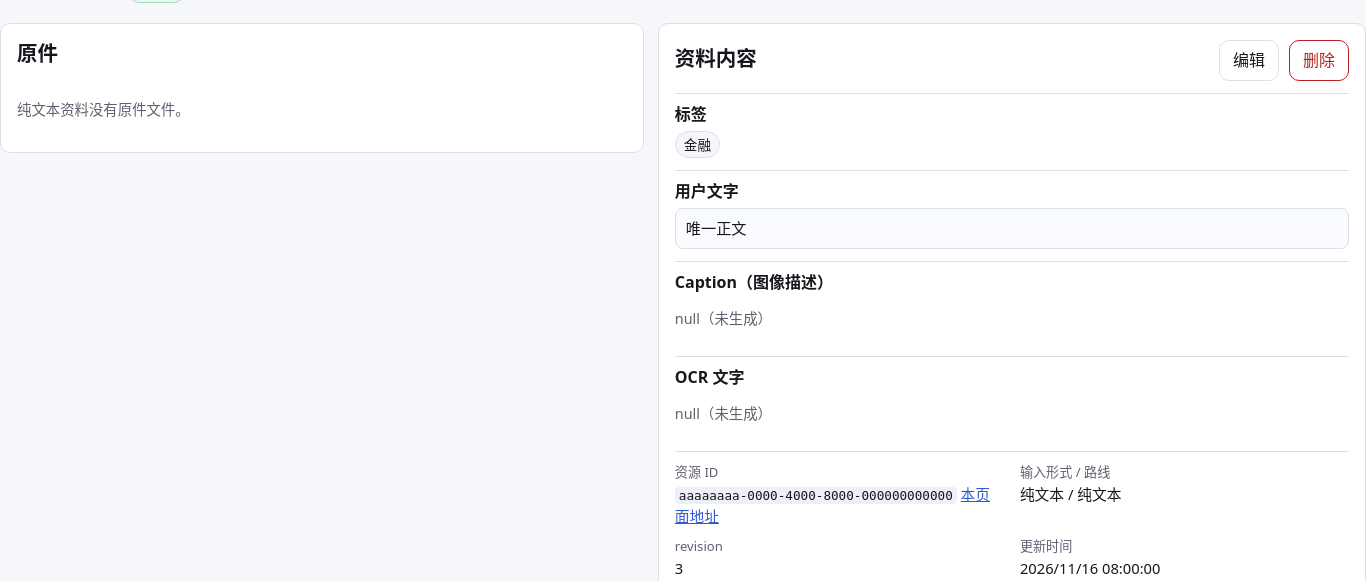
Test: resource detail page › refuses to blank out the only text of a plain-text resource
Expected: the text "资源 ID" is shown, [675,463,718,481]
Click the button "编辑": {"x": 1249, "y": 61} [1219,40,1279,81]
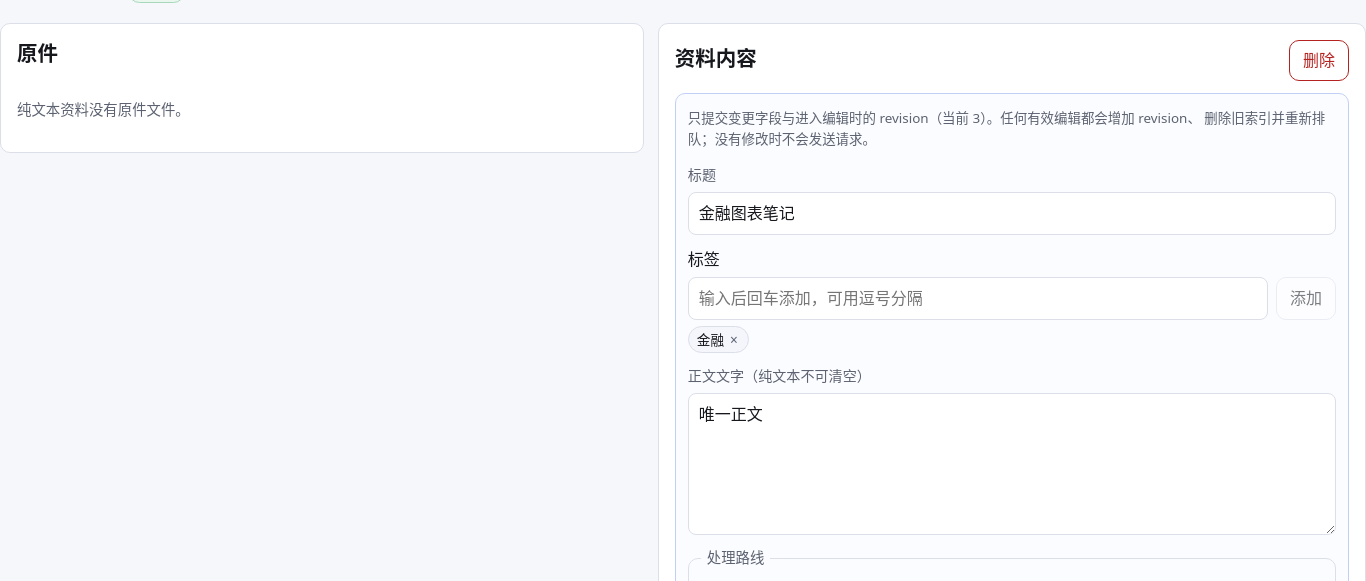
Clear the text box labelled "正文文字（纯文本不可清空）": {"x": 1012, "y": 464} [688,393,1336,535]
(page scrolled)
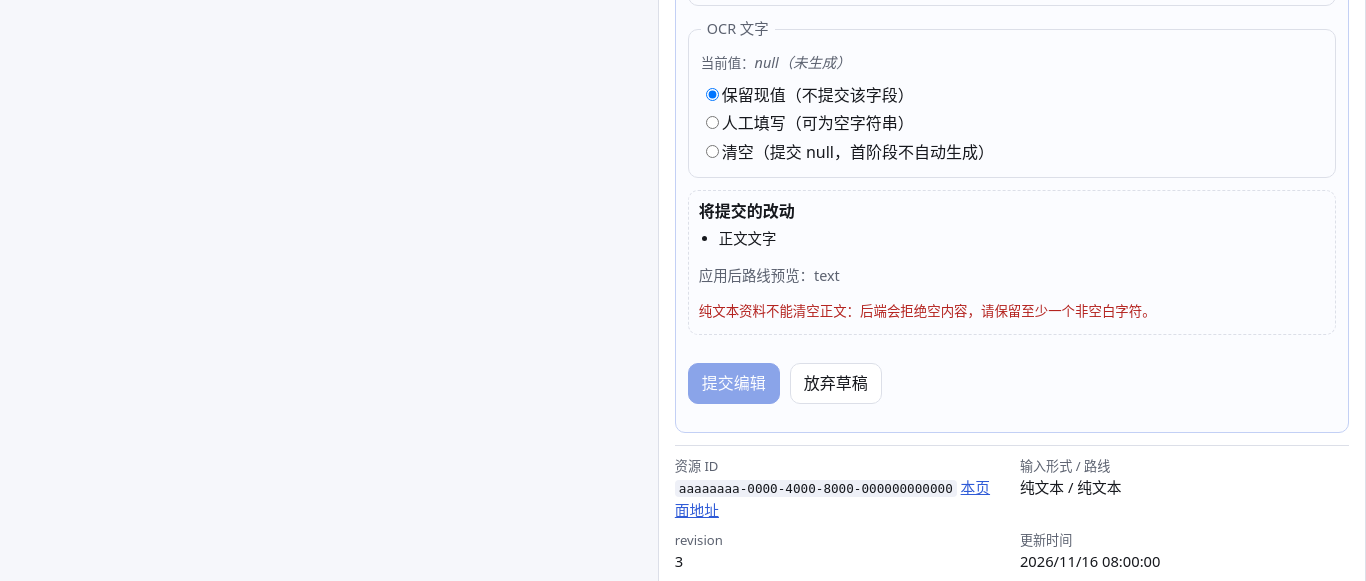
Expected: the button "提交编辑" is disabled, [688,363,780,404]
Expected: the text "纯文本资料不能清空正文：后端会拒绝空内容，请保留至少一个非空白字符。" is shown, [699,302,1156,320]
